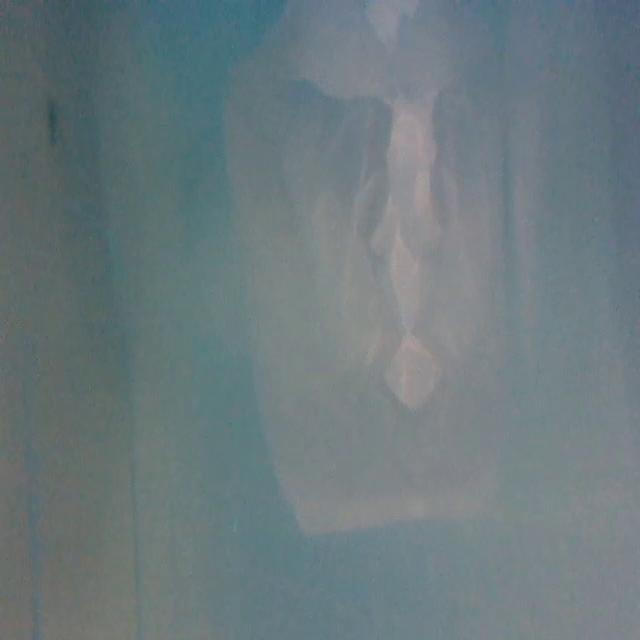plastic bags: (243, 0, 502, 536)
